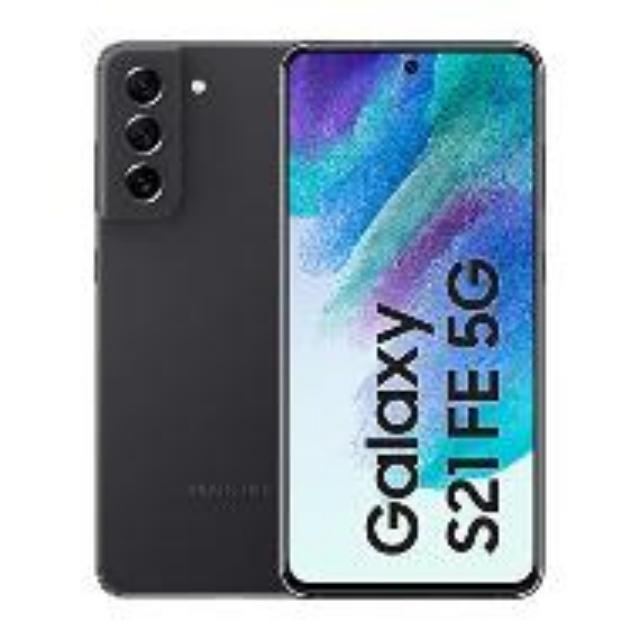PhoneUse: (285, 48, 537, 598), (98, 42, 280, 598)
